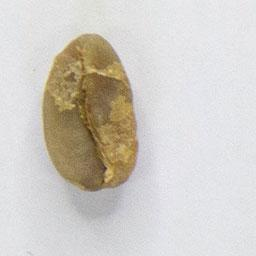longberry: (38, 29, 143, 193)
